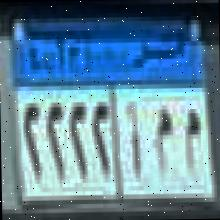2: (90, 100, 112, 181), (68, 98, 90, 176), (22, 100, 44, 178), (46, 102, 64, 180)
alif: (123, 101, 149, 179)
meem: (179, 98, 205, 173), (150, 104, 174, 176)
